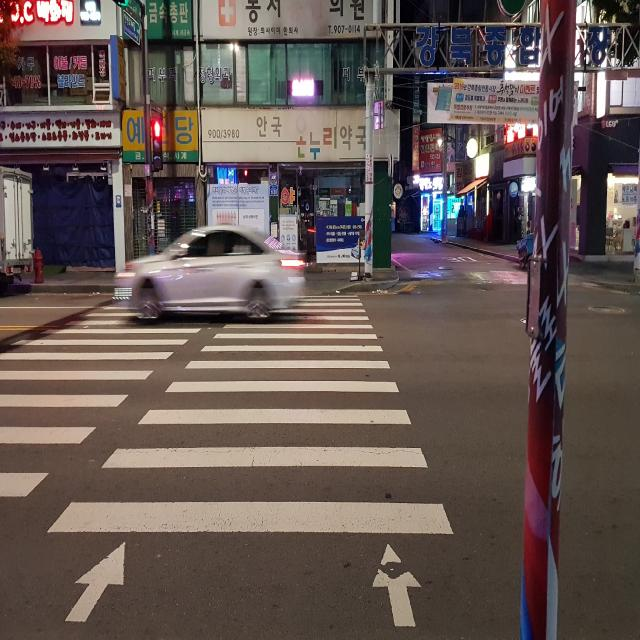빨간불: (153, 120, 162, 170)
횡단보도: (0, 292, 454, 639)
